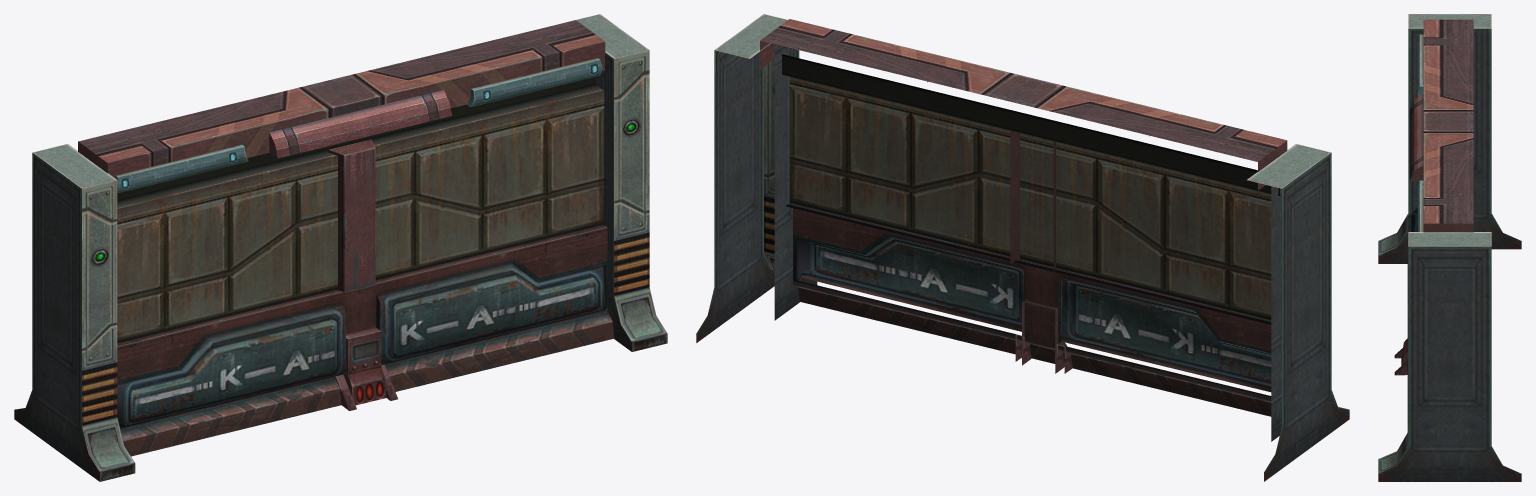
File: fb_suidao_pinjieqiang01.FBX
3 renders of one model, left to right at view 1: azimuth 30°, elevation 25°; view 2: azimuth 150°, elevation 25°; view 3: azimuth 270°, elevation 25°, orthographic. The views are drawn at different scales.
Visible parts, largest first — view 1: fb_suidao_pinjieqiang01; view 2: fb_suidao_pinjieqiang01; view 3: fb_suidao_pinjieqiang01.
Boxes of the visible parts, x1,y1,x2,y2 form: fb_suidao_pinjieqiang01: (14,14,667,481); fb_suidao_pinjieqiang01: (696,14,1349,481); fb_suidao_pinjieqiang01: (1378,14,1521,481).
Bounding box in the file's own units: 1781 × 870 × 464.
